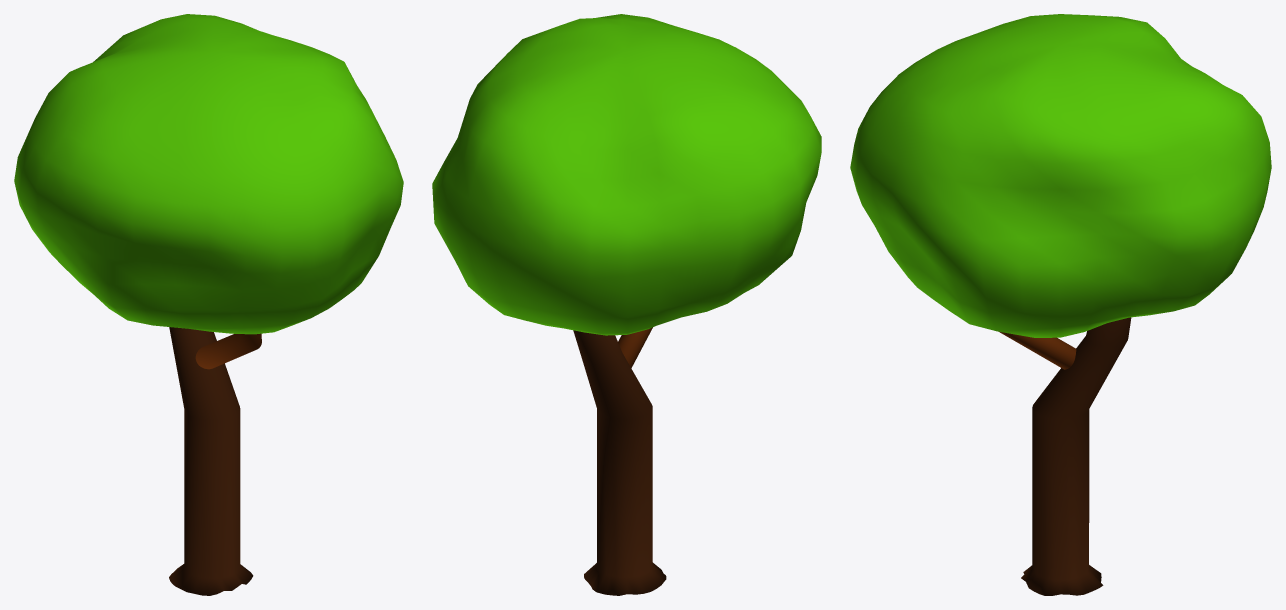
File: tree2.glb
3 renders of one model, left to right at view 1: azimuth 30°, elevation 25°; view 2: azimuth 150°, elevation 25°; view 3: azimuth 270°, elevation 25°, orthographic.
Visible parts, largest first — view 1: Tree2; view 2: Tree2; view 3: Tree2.
Boxes of the visible parts, x1,y1,x2,y2 form: Tree2: (14,14,403,595); Tree2: (432,14,821,595); Tree2: (850,14,1271,595).
Bounding box in the file's own units: 6 × 9.38 × 6.66.
Materials: 1 (1 with a texture image).
